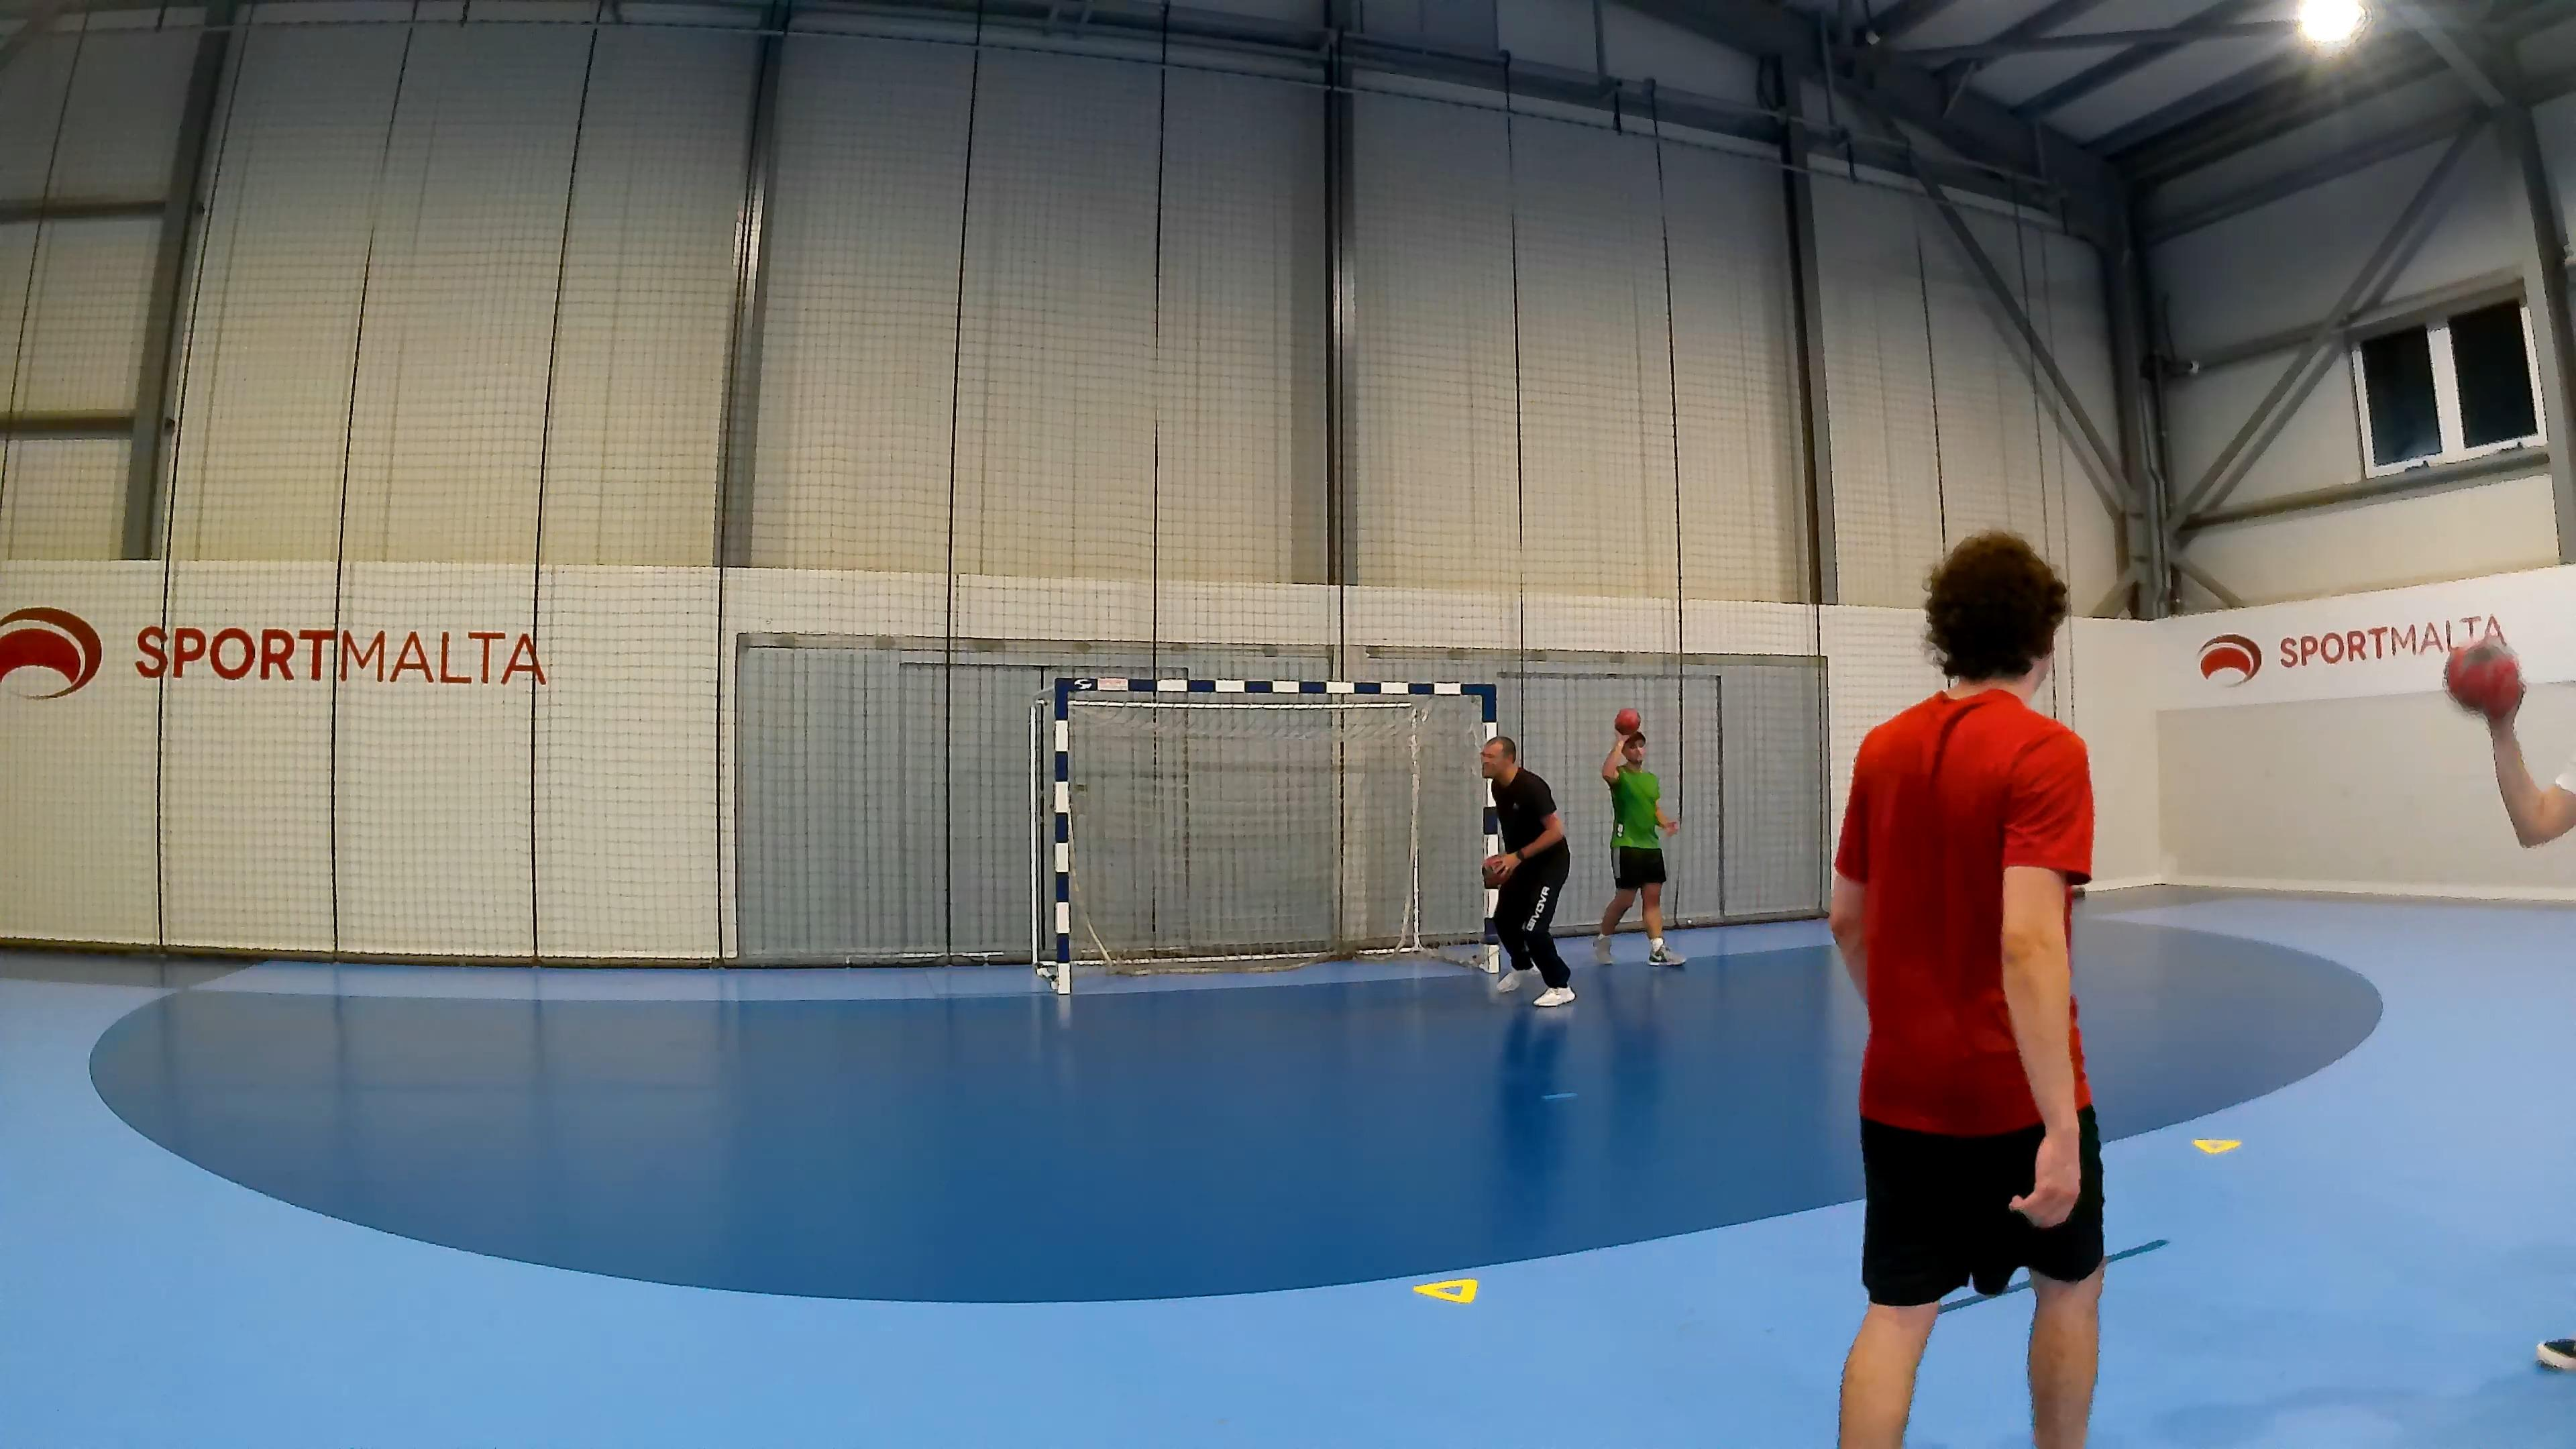handball: (2443, 639, 2525, 717), (1617, 704, 1645, 729)
